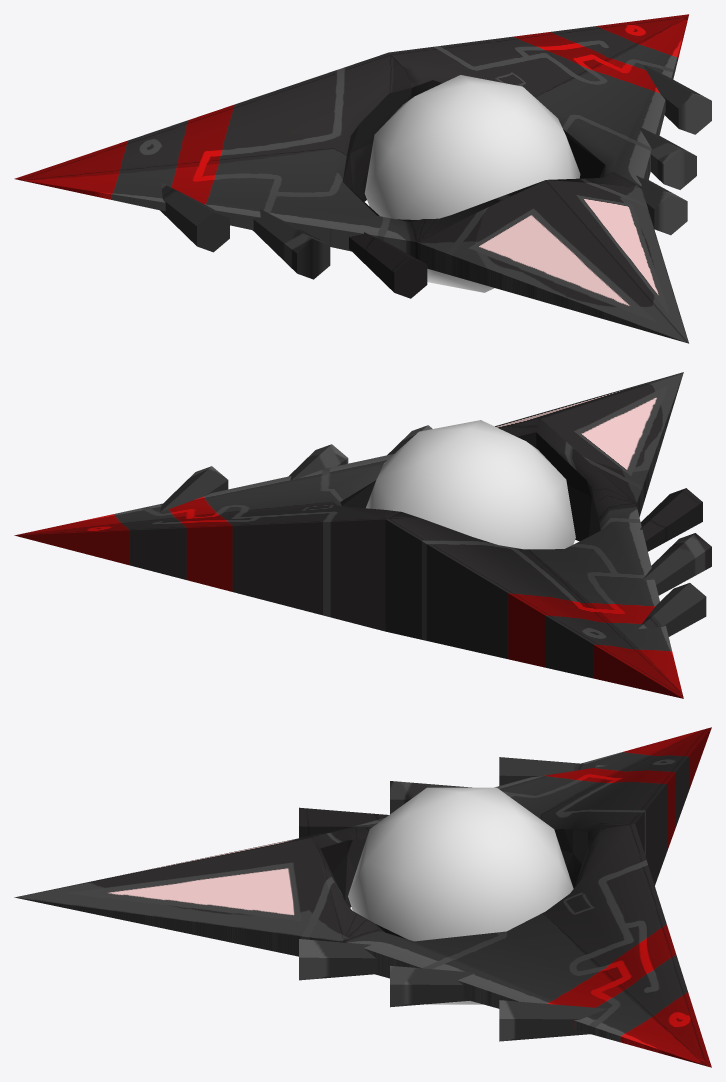
Rendered from enemy spike ship.fbx.
3 renders of one model, top to bottom at view 1: azimuth 30°, elevation 25°; view 2: azimuth 150°, elevation 25°; view 3: azimuth 270°, elevation 25°, orthographic. The views are drawn at different scales.
Visible parts, largest first — view 1: Circle, Icosphere, Cylinder.002, Cylinder.001, Cylinder.003, Cylinder.006, Cylinder.005, Cylinder.004; view 2: Circle, Icosphere, Cylinder.002, Cylinder.001, Cylinder.003, Cylinder.006, Cylinder.005; view 3: Circle, Icosphere, Cylinder.006, Cylinder.005, Cylinder.004, Cylinder.001, Cylinder.003, Cylinder.002.
Boxes of the visible parts, x1=… form: Circle: x1=14, y1=14, x2=688, y2=343; Icosphere: x1=364, y1=75, x2=580, y2=292; Cylinder.002: x1=253, y1=209, x2=330, y2=279; Cylinder.001: x1=349, y1=232, x2=427, y2=298; Cylinder.003: x1=160, y1=182, x2=229, y2=252; Cylinder.006: x1=643, y1=65, x2=711, y2=134; Cylinder.005: x1=638, y1=126, x2=696, y2=189; Cylinder.004: x1=636, y1=175, x2=687, y2=235; Circle: x1=14, y1=372, x2=683, y2=698; Icosphere: x1=366, y1=420, x2=575, y2=549; Cylinder.002: x1=642, y1=533, x2=711, y2=595; Cylinder.001: x1=640, y1=488, x2=702, y2=551; Cylinder.003: x1=638, y1=583, x2=706, y2=636; Cylinder.006: x1=160, y1=466, x2=228, y2=512; Cylinder.005: x1=288, y1=444, x2=348, y2=480; Circle: x1=14, y1=727, x2=711, y2=1067; Icosphere: x1=348, y1=787, x2=573, y2=1004; Cylinder.006: x1=499, y1=1000, x2=607, y2=1041; Cylinder.005: x1=390, y1=965, x2=476, y2=1007; Cylinder.004: x1=299, y1=939, x2=376, y2=980; Cylinder.001: x1=299, y1=807, x2=388, y2=838; Cylinder.003: x1=499, y1=757, x2=606, y2=785; Cylinder.002: x1=390, y1=781, x2=500, y2=813.
Bounding box in the file's own units: 517 × 146 × 448.
